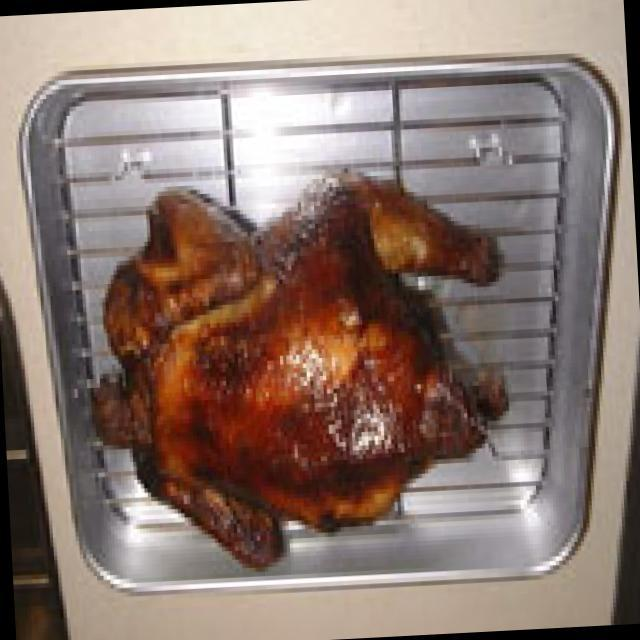Chicken: (81, 171, 534, 588)
